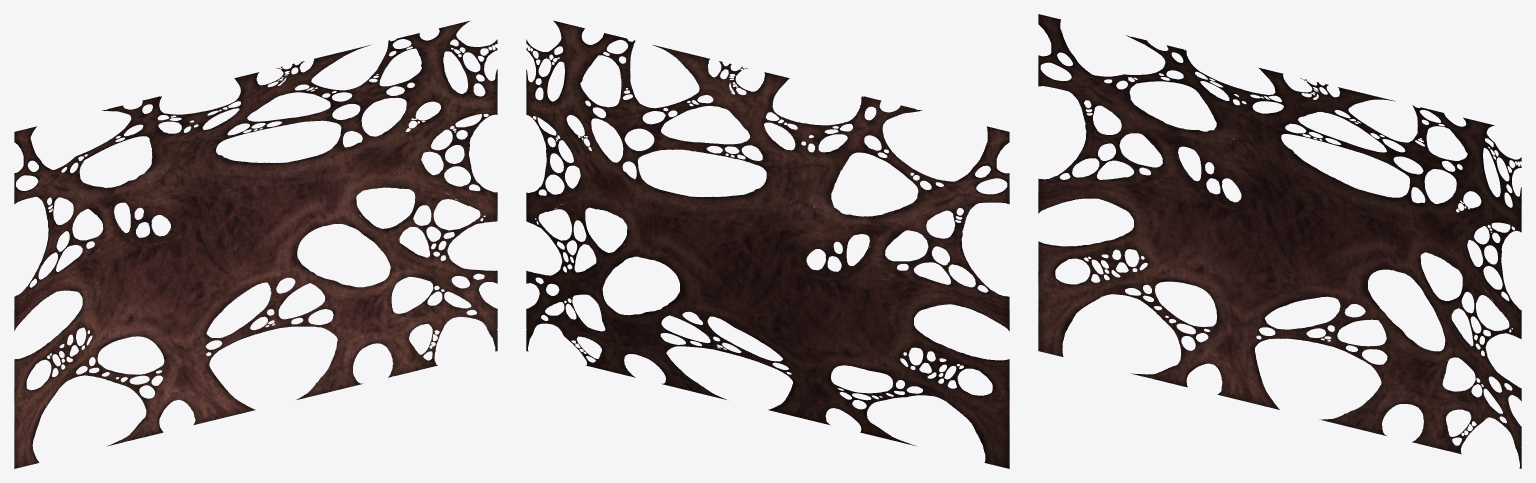
File: web.dae
The picture shows the model from 3 angles, left to right: view 1: azimuth 30°, elevation 25°; view 2: azimuth 150°, elevation 25°; view 3: azimuth 330°, elevation 25°; orthographic projection.
Parts seen in each view (by area): view 1: pPlane1; view 2: pPlane1; view 3: pPlane1.
Boxes of the visible parts, x1,y1,x2,y2 form: pPlane1: (14, 20, 497, 468); pPlane1: (526, 20, 1009, 468); pPlane1: (1038, 14, 1521, 468).
Bounding box in the file's own units: 6 × 4 × 0.5.
